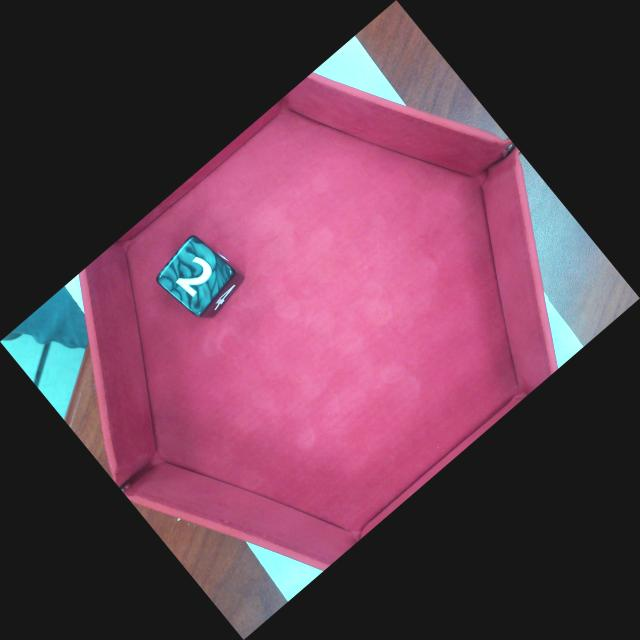dice: (158, 233, 242, 315)
